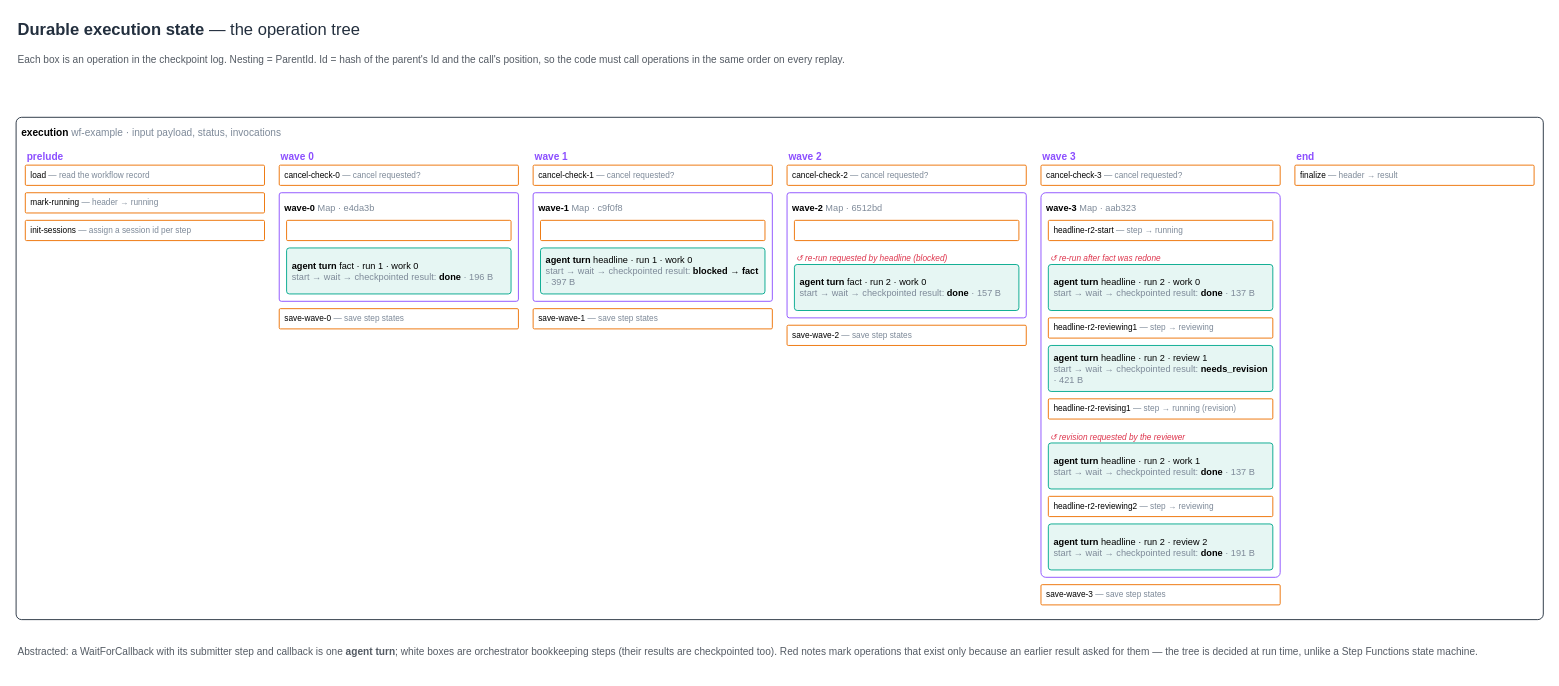
Some shapes in this 1559 by 686 pixel diagram are drawn without their labels. The centre of each missing label's shape, as x and y in pixels:
fact-r1-start — step → running: the point at 398,230
fact-r2-start — step → running: the point at 906,230
headline-r1-start — step → running: the point at 652,230
